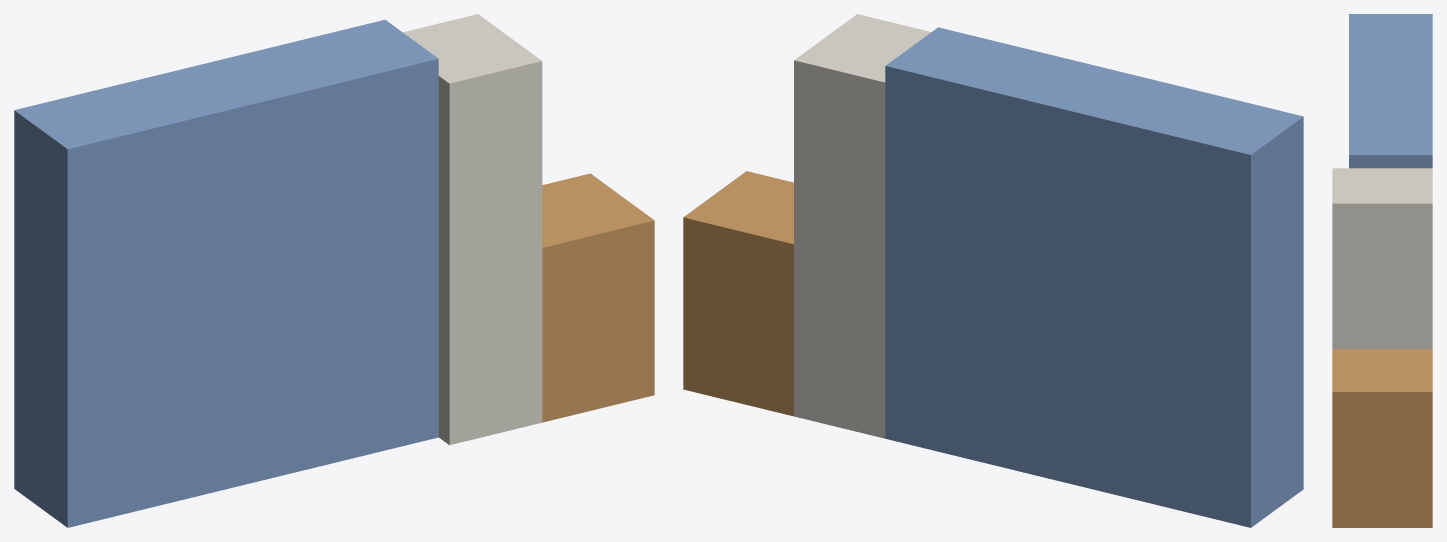
The picture shows the model from 3 angles, left to right: view 1: azimuth 30°, elevation 25°; view 2: azimuth 150°, elevation 25°; view 3: azimuth 270°, elevation 25°; orthographic projection. The views are drawn at different scales.
Parts seen in each view (by area): view 1: SP_DrugCabinet, SP_CenterTower, SP_ComputerCabinet; view 2: SP_DrugCabinet, SP_CenterTower, SP_ComputerCabinet; view 3: SP_CenterTower, SP_ComputerCabinet, SP_DrugCabinet.
Boxes of the visible parts, box(x1,y1,x2,y2) form: SP_DrugCabinet: box(14, 19, 438, 527); SP_CenterTower: box(403, 14, 542, 445); SP_ComputerCabinet: box(542, 173, 654, 422); SP_DrugCabinet: box(885, 27, 1303, 527); SP_CenterTower: box(794, 14, 931, 438); SP_ComputerCabinet: box(683, 171, 793, 416); SP_CenterTower: box(1332, 168, 1432, 348); SP_ComputerCabinet: box(1332, 349, 1432, 527); SP_DrugCabinet: box(1349, 14, 1432, 168).
Bounding box in the file's own units: 124 × 78 × 24.
